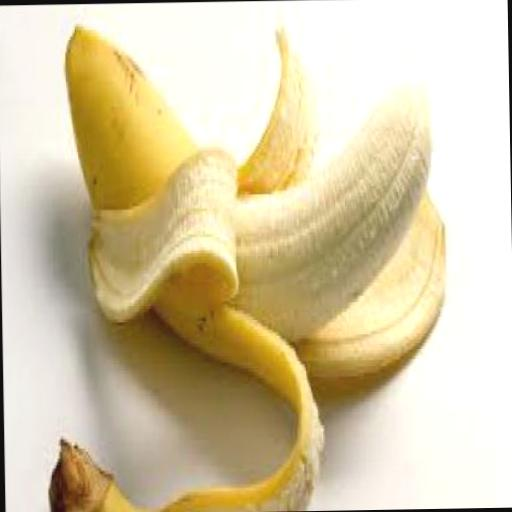biodegradable: (37, 9, 447, 512)
